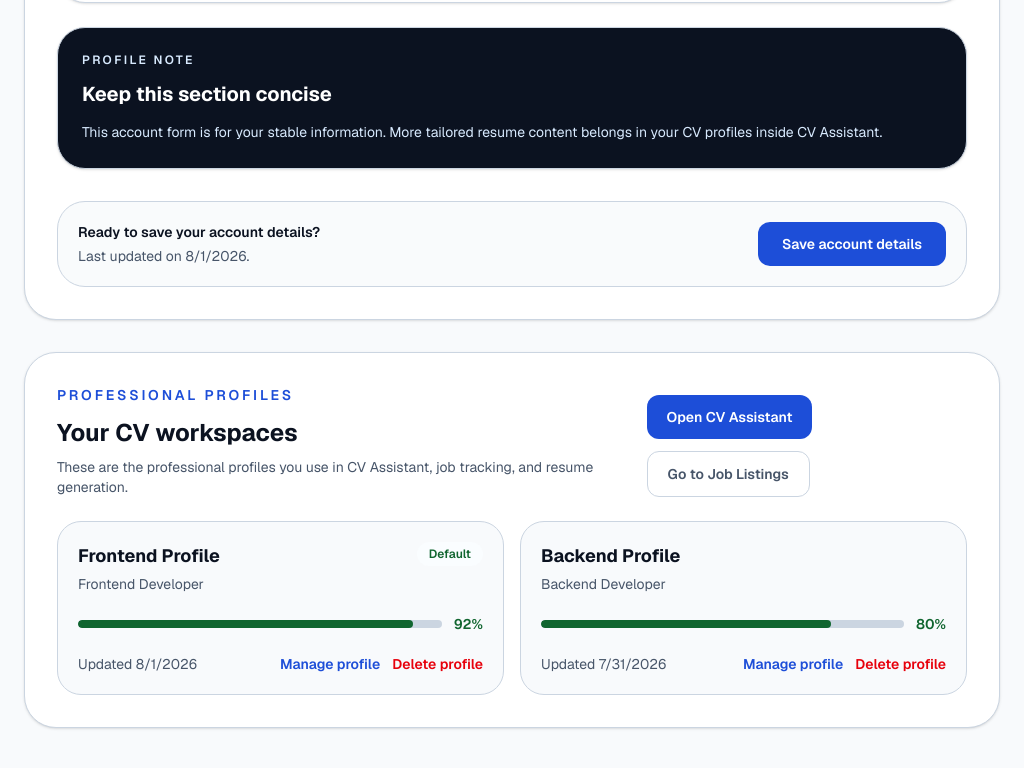
ProfileClient › deletes a professional profile from the profile hub
(page scrolled)
What coordinates should you click on to do the following:
click the button "Delete profile" in the row of "7/31/2026"
I would click on:
 (901, 664)
Its box is left=855, top=654, right=946, bottom=674.
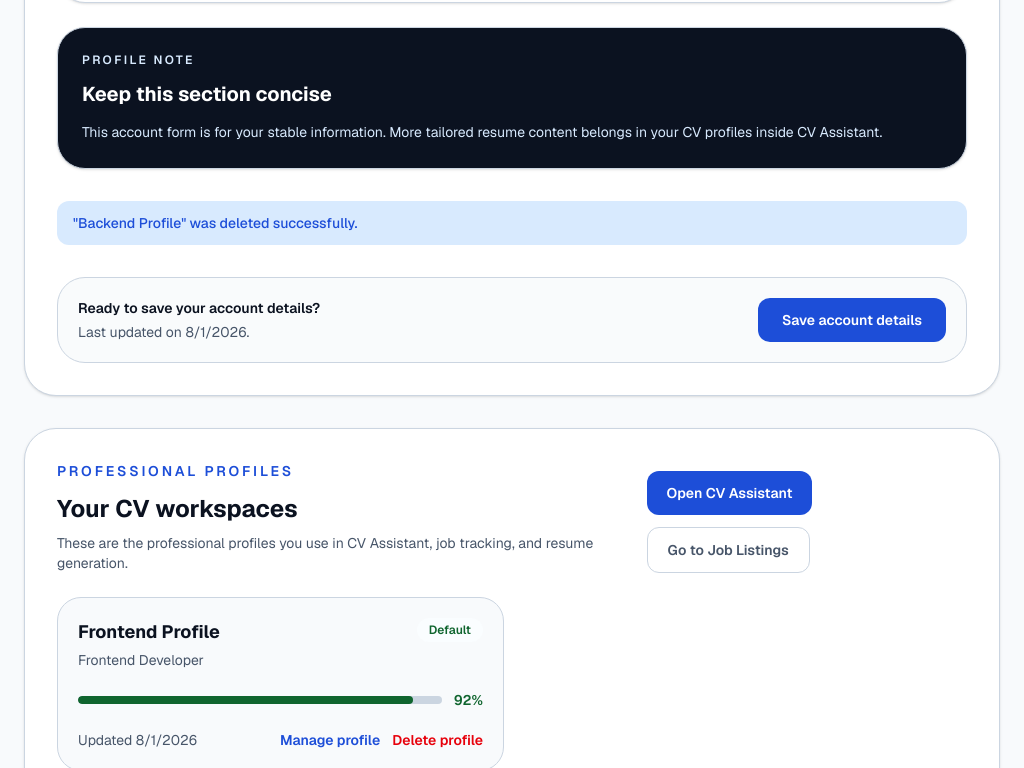
Check: the text "\"Backend Profile\" was deleted successfully." is shown, box left=57, top=201, right=967, bottom=245
